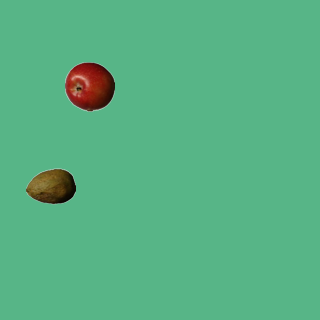Apple Braeburn: (64, 61, 114, 111)
Papaya: (25, 161, 75, 211)
